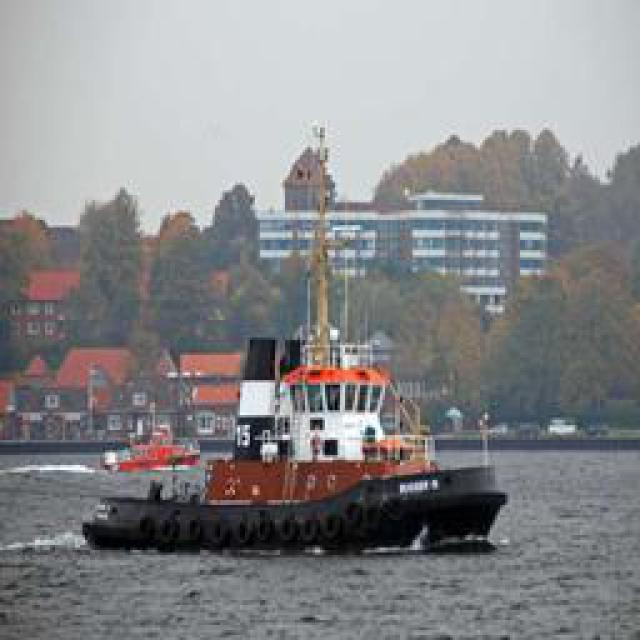Ship: (71, 316, 509, 556)
